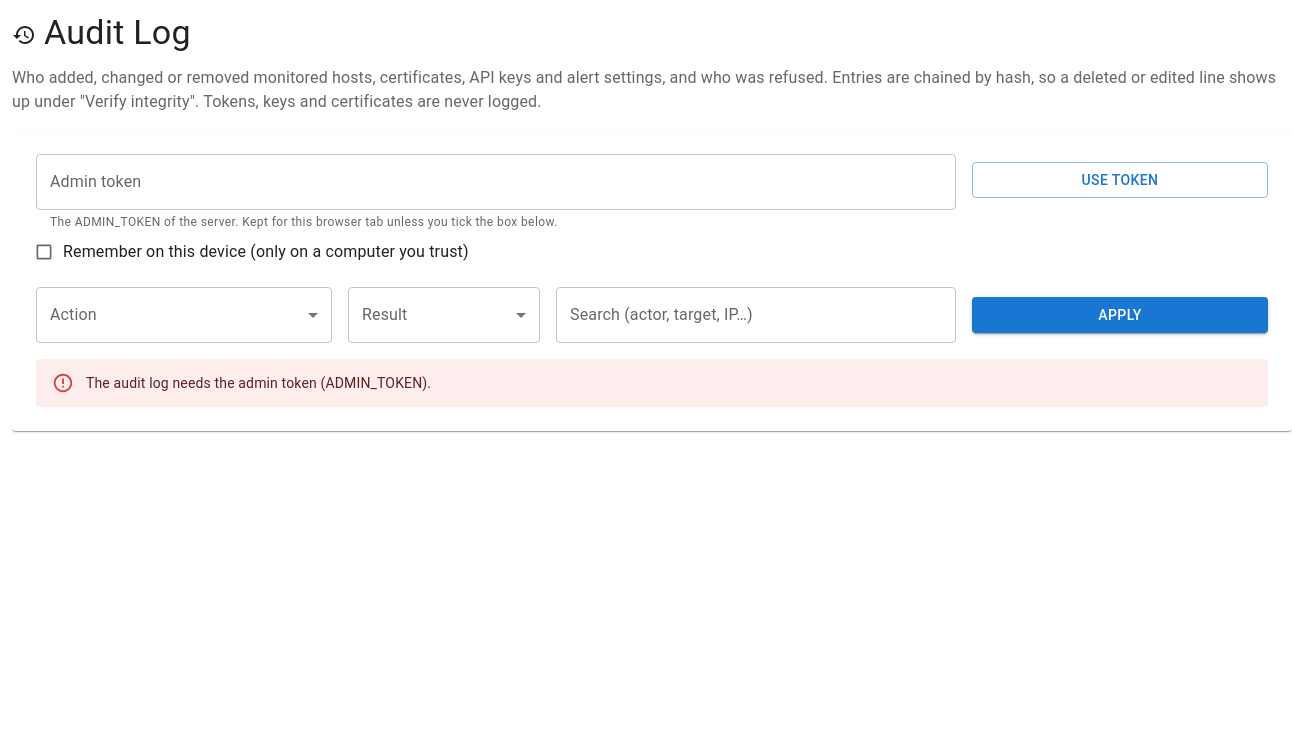
Scenario: asks for the admin token when access is refused and stores the token
Expected: the text "The audit log needs the admin token (ADMIN_TOKEN)." is shown, [86,375,431,391]
Type "secret" into the password field labelled "Admin token" at [496, 182], box [36,154,956,210]
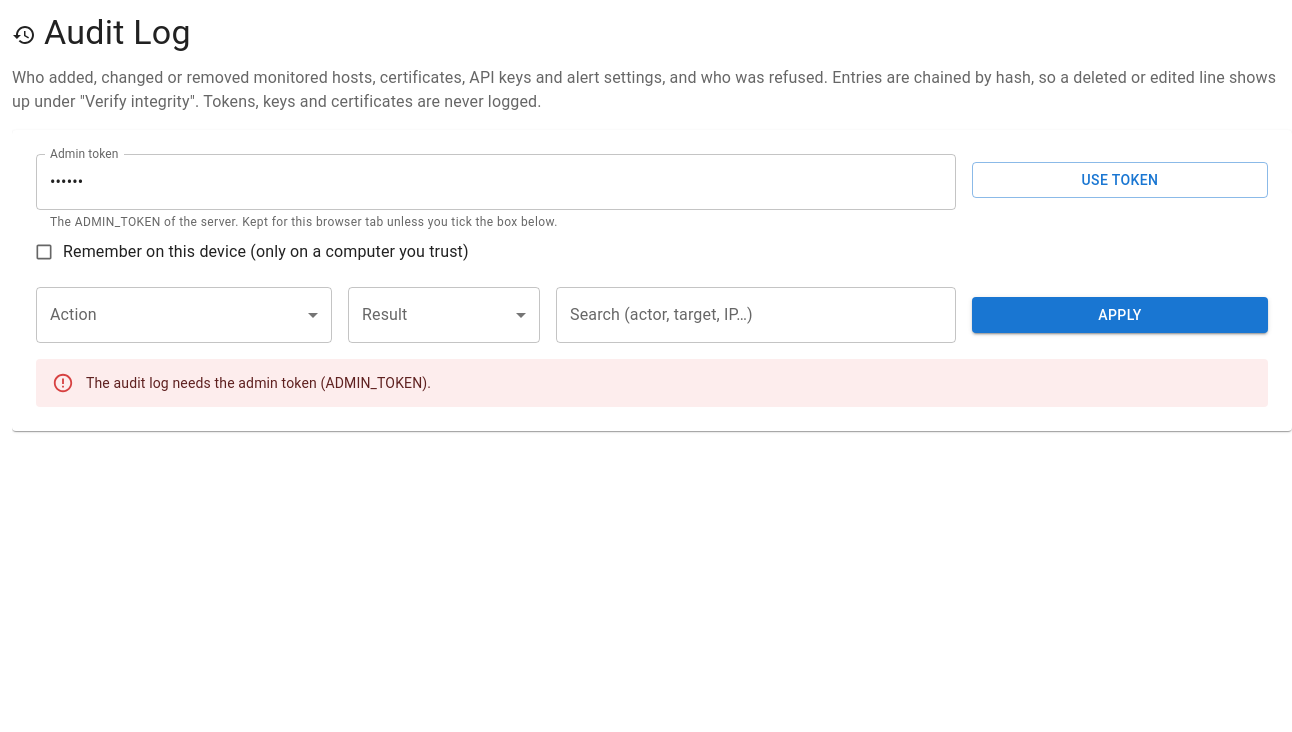
Click the button "Use token" at [1120, 180], box [972,162,1268,198]
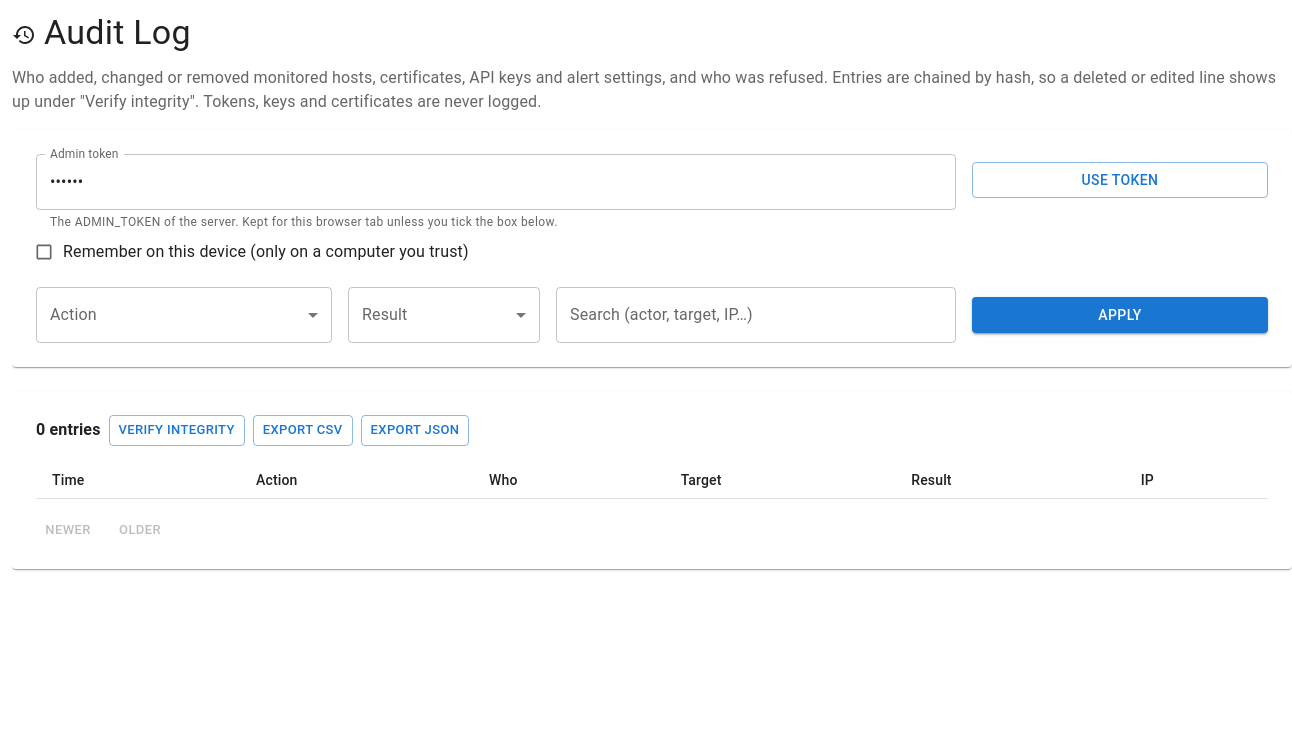
Now the text "needs the admin token" is gone
